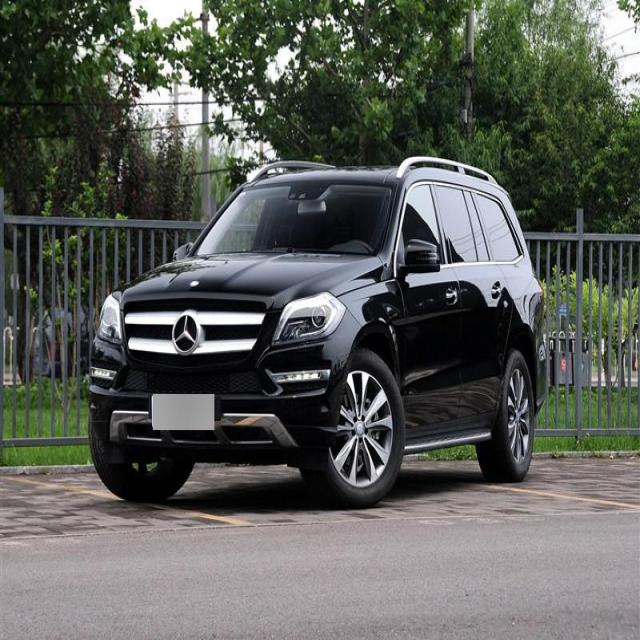door: (443, 182, 509, 430)
front_bumper: (88, 362, 341, 453)
front_glass: (192, 184, 395, 258)
front_left_side_door: (394, 174, 464, 438)
front_left_side_light: (269, 288, 347, 351)
front_left_side_mirror: (396, 237, 442, 282)
front_right_side_light: (95, 291, 126, 348)
wheel: (301, 350, 407, 508), (90, 422, 195, 505), (476, 350, 534, 480)
